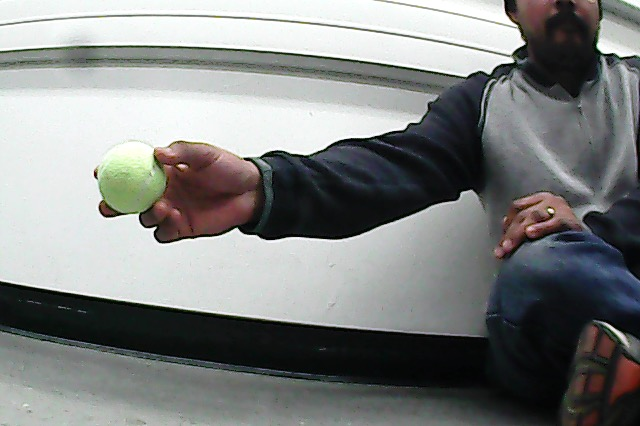ball: (95, 138, 170, 219)
